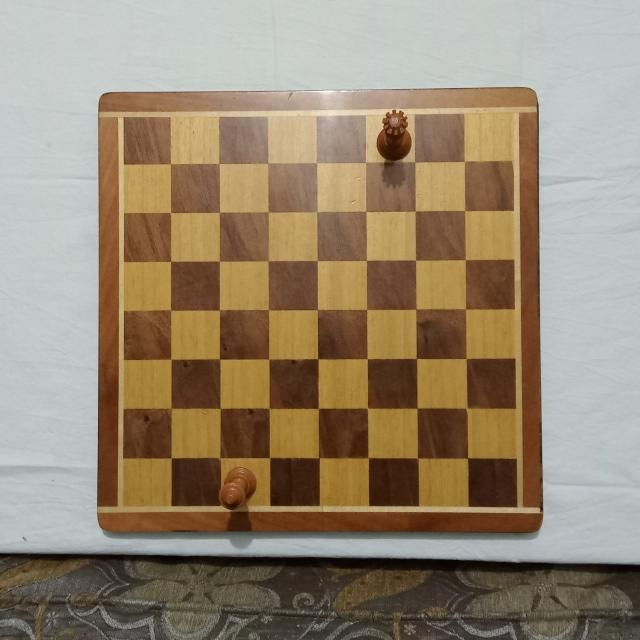white-king: (218, 466, 258, 510)
white-queen: (374, 106, 414, 163)
